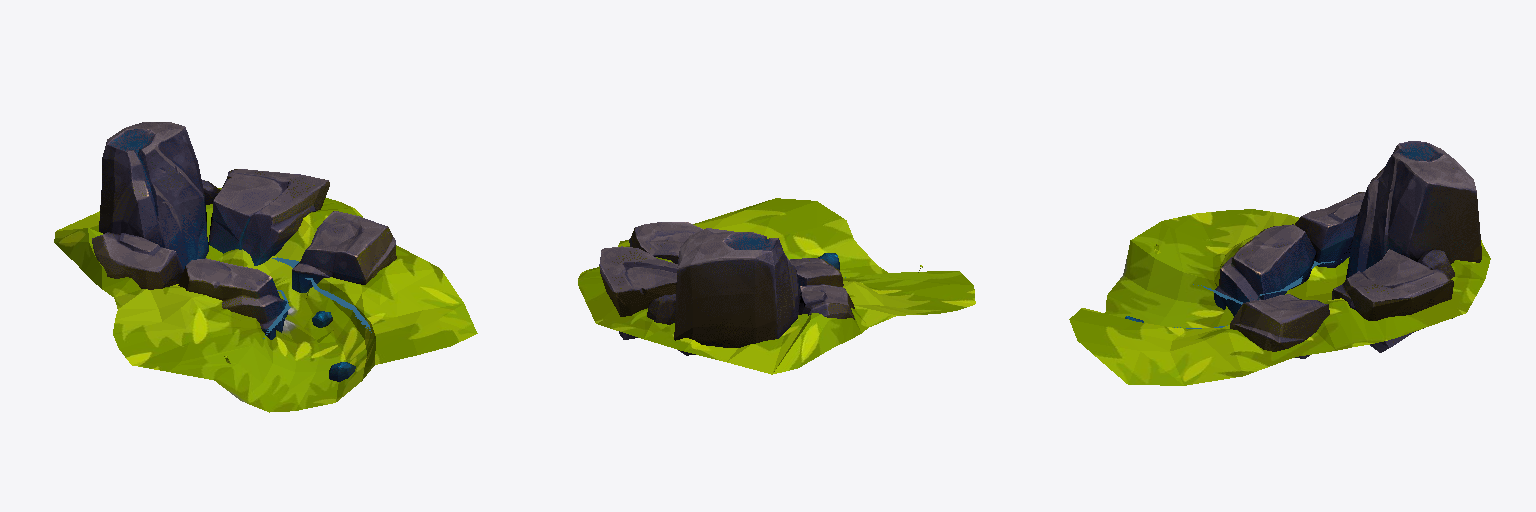
The picture shows the model from 3 angles: view 1: azimuth 30°, elevation 25°; view 2: azimuth 150°, elevation 25°; view 3: azimuth 270°, elevation 25°; orthographic projection.
Parts seen in each view (by area): view 1: polySurface4; view 2: polySurface4; view 3: polySurface4.
Boxes of the visible parts, x1=… form: polySurface4: x1=54, y1=122, x2=477, y2=412; polySurface4: x1=578, y1=198, x2=975, y2=374; polySurface4: x1=1069, y1=141, x2=1490, y2=385.
Size of the model in its own units: 7.28 by 3.34 by 8.01.
4 materials, 3 textured.